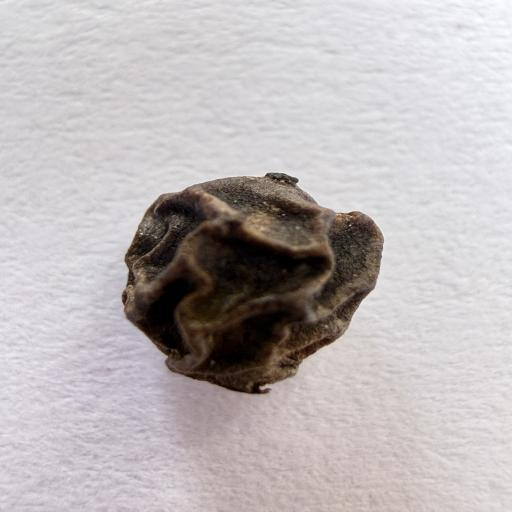Black_pepper: (105, 150, 391, 404)
